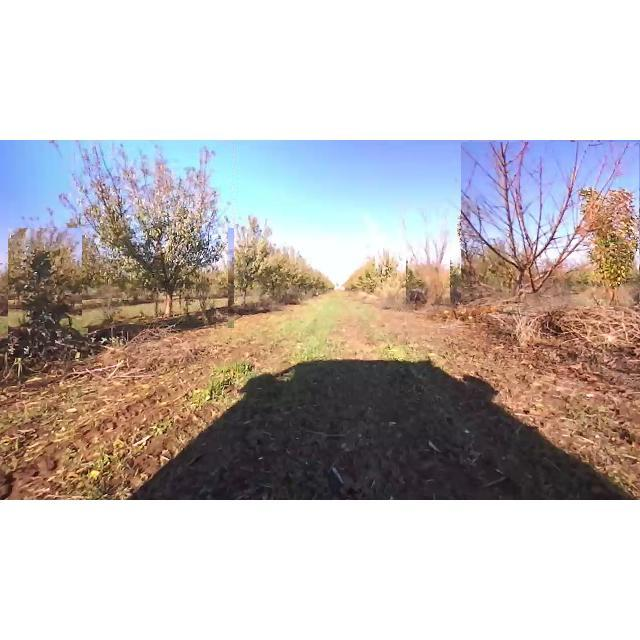direk: (461, 142, 639, 306), (82, 142, 234, 328), (8, 228, 88, 358), (458, 184, 524, 316), (217, 215, 277, 312), (406, 208, 450, 304), (364, 232, 404, 300), (262, 242, 298, 306)
